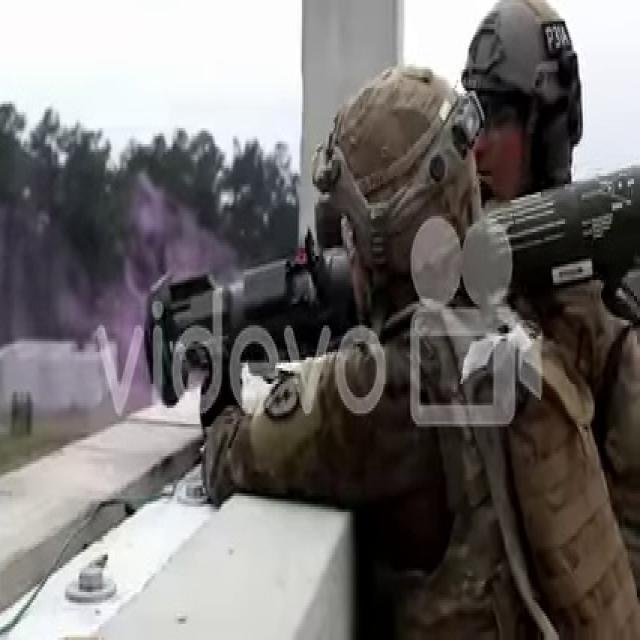bazooka: (140, 153, 640, 423)
